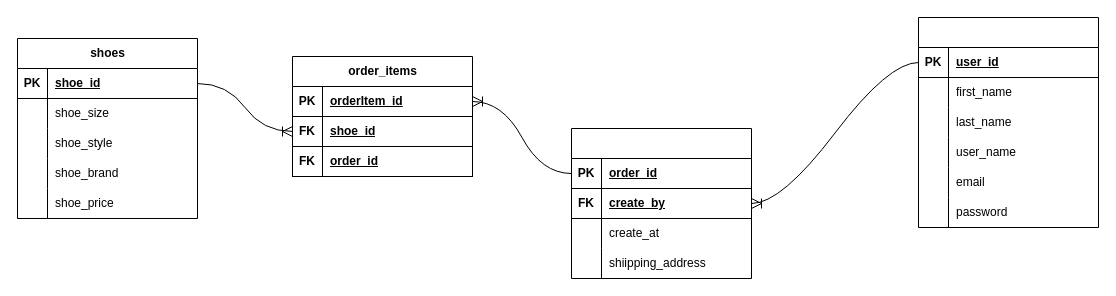
The diagram is 1116 pixels wide and 296 high, and some of its shapes have lost their labels. Here are the shapes that lost their labels. From the top down, the box of each, then its label:
(918, 16, 1098, 228): users
(570, 128, 752, 278): orders
